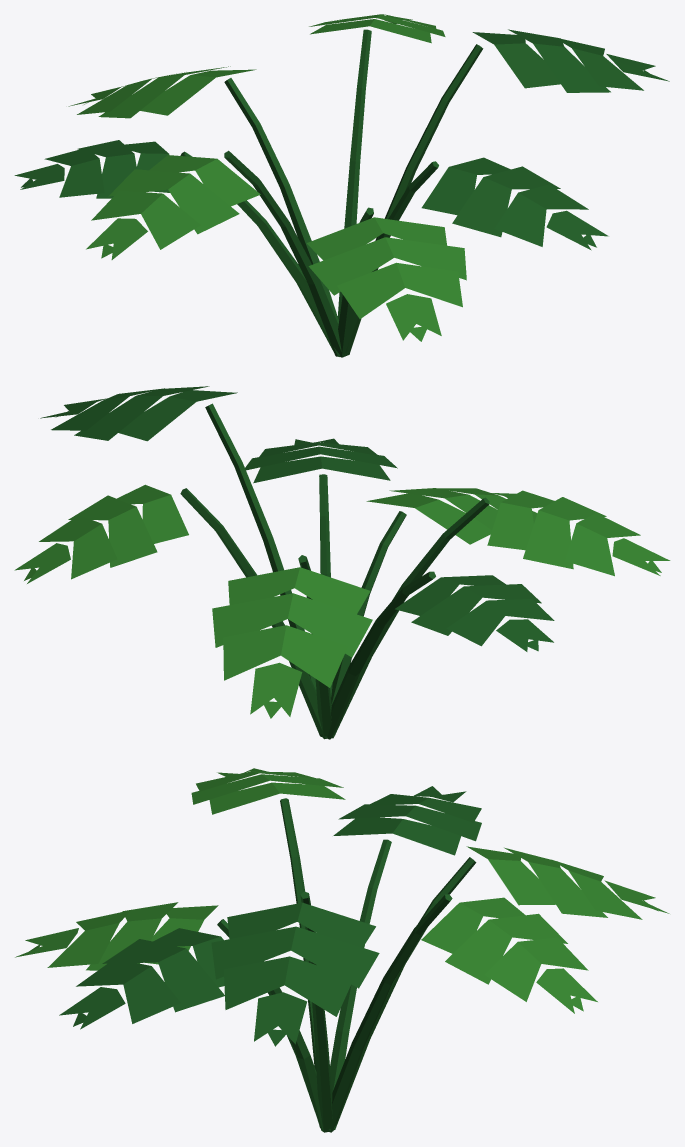
File: monstera.glb
The picture shows the model from 3 angles, top to bottom: view 1: azimuth 30°, elevation 25°; view 2: azimuth 150°, elevation 25°; view 3: azimuth 270°, elevation 25°; orthographic projection. The views are drawn at different scales.
Visible parts, largest first — view 1: monstera; view 2: monstera; view 3: monstera.
Part boxes in pixels (x1,y1,x2,y2): monstera: (14, 14, 669, 357); monstera: (14, 386, 670, 739); monstera: (15, 768, 669, 1132).
Bounding box in the file's own units: 3.08 × 1.43 × 2.82.
